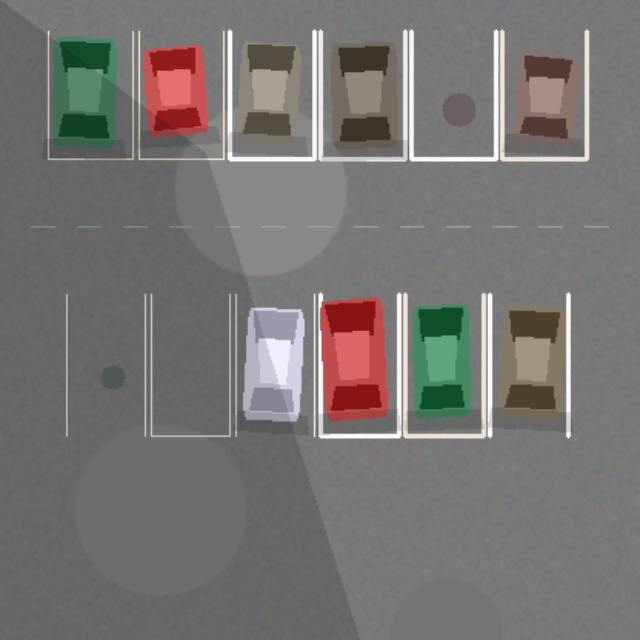space-empty: (66, 294, 145, 435), (151, 294, 229, 435), (411, 31, 495, 158)
space-occupied: (235, 294, 314, 435), (489, 294, 568, 435), (320, 294, 398, 435), (405, 294, 483, 435), (138, 31, 223, 158), (229, 31, 314, 158), (320, 31, 405, 158), (48, 31, 132, 158), (502, 31, 586, 158)
